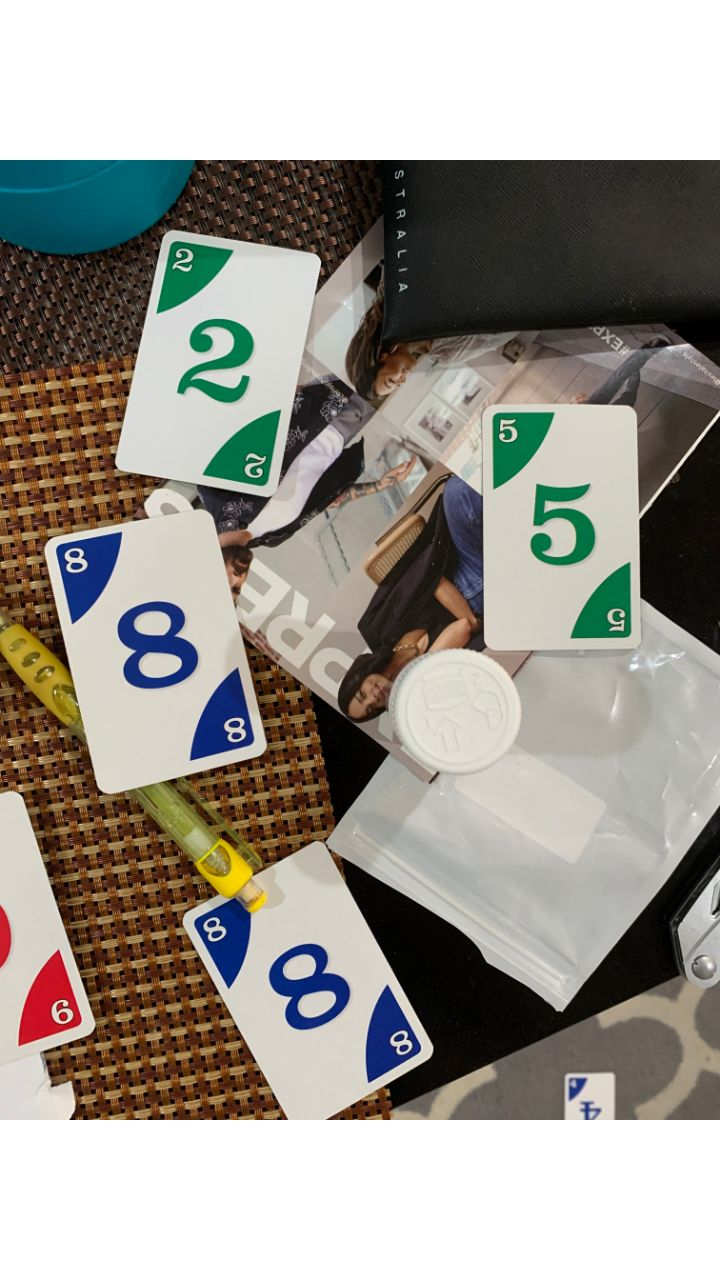eight: (182, 840, 435, 1120), (42, 512, 267, 795)
five: (481, 402, 643, 651)
two: (114, 226, 323, 498)
